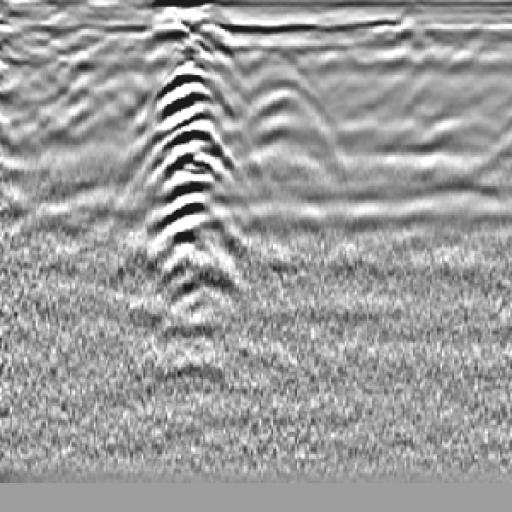metalic: (135, 31, 239, 332)
nonmetalic: (224, 71, 352, 201)
